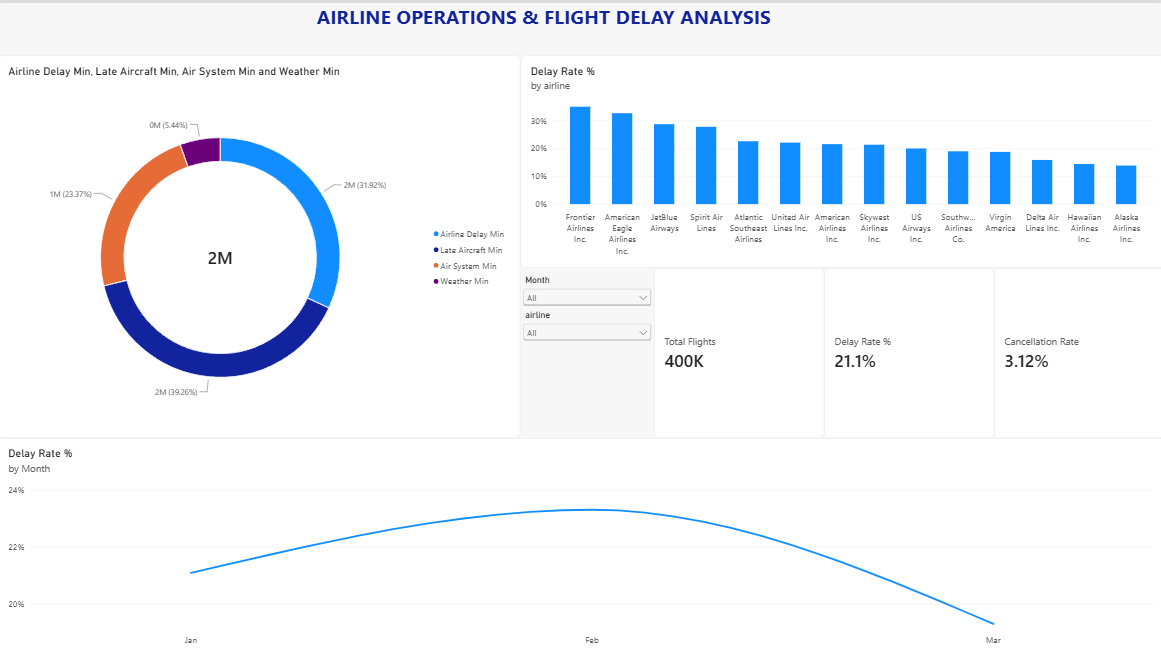

Layout of this report page (visuals, bound fields, positions):
{"tool":"powerbi","page":{"name":"Page 1","canvas":[1920,1080],"ordinal":0},"visuals":[{"type":"cardVisual","fields":{"Data":["flights.Total Flights"]},"box":[10,0,280,280],"z":0},{"type":"cardVisual","fields":{"Data":["flights.Delay Rate %"]},"box":[290.2,0,280,280],"z":1000},{"type":"cardVisual","fields":{"Data":["flights.Cancellation Rate"]},"box":[570.2,0,280,280],"z":2000},{"type":"slicer","fields":{"Values":["airlines.airline"]},"box":[10,290,280,280],"z":3000},{"type":"slicer","fields":{"Values":["dim_date.Month"]},"box":[290.2,279.9,280,280],"z":4000},{"type":"lineChart","fields":{"Category":["dim_date.Month"],"Y":["flights.Delay Rate %"]},"box":[570,280,280,280],"z":5000},{"type":"clusteredBarChart","fields":{"Category":["airlines.airline"],"Y":["flights.Delay Rate %"]},"box":[860.4,0,1060,559.9],"z":6000},{"type":"donutChart","fields":{"Y":["airlines.Airline Delay Min","airlines.Late Aircraft Min","airlines.Air System Min","airlines.Weather Min"]},"box":[10.3,570.2,582.5,510.5],"z":7000}]}

Visuals, with their boxes in screenshot pixels (x1, y1, x2, y2), scaled from the page's 1920x1080 canvas onto the 1161x652 screenshot:
cardVisual - flights.Total Flights: detection(6, 0, 175, 169)
cardVisual - flights.Delay Rate %: detection(175, 0, 345, 169)
cardVisual - flights.Cancellation Rate: detection(345, 0, 514, 169)
slicer - airlines.airline: detection(6, 175, 175, 344)
slicer - dim_date.Month: detection(175, 169, 345, 338)
lineChart - dim_date.Month x flights.Delay Rate %: detection(345, 169, 514, 338)
clusteredBarChart - airlines.airline x flights.Delay Rate %: detection(520, 0, 1160, 338)
donutChart - airlines.Airline Delay Min x airlines.Late Aircraft Min: detection(6, 344, 358, 651)
